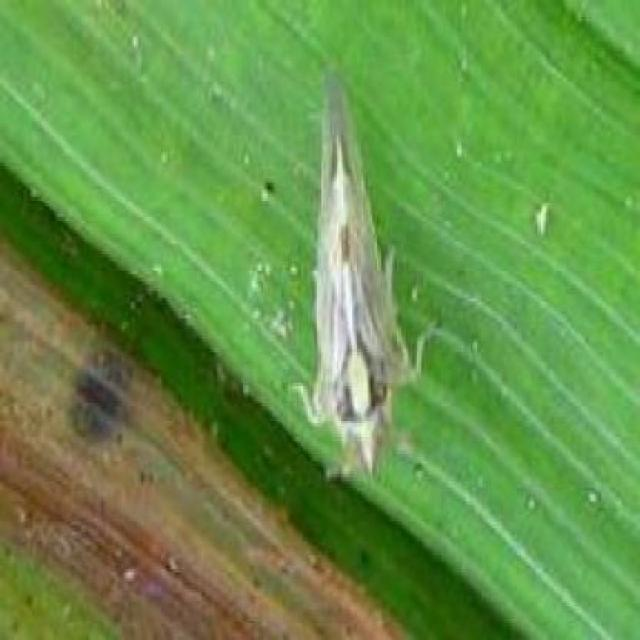brown-planthopper: (302, 77, 412, 483)
